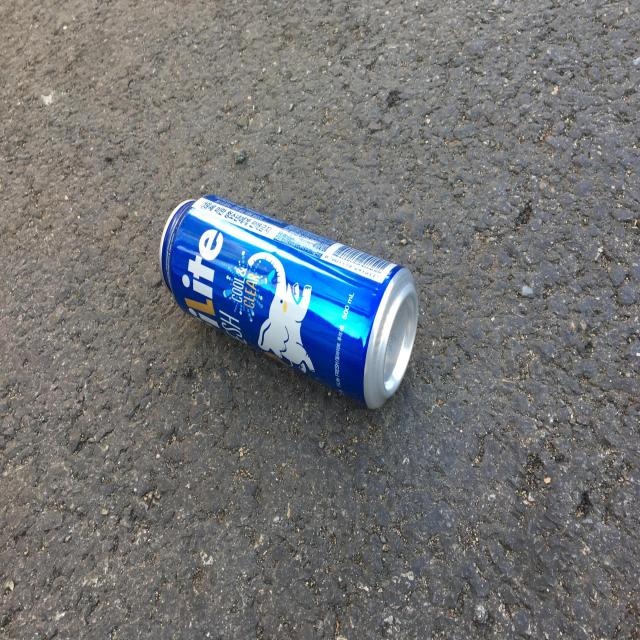can: (159, 195, 419, 408)
